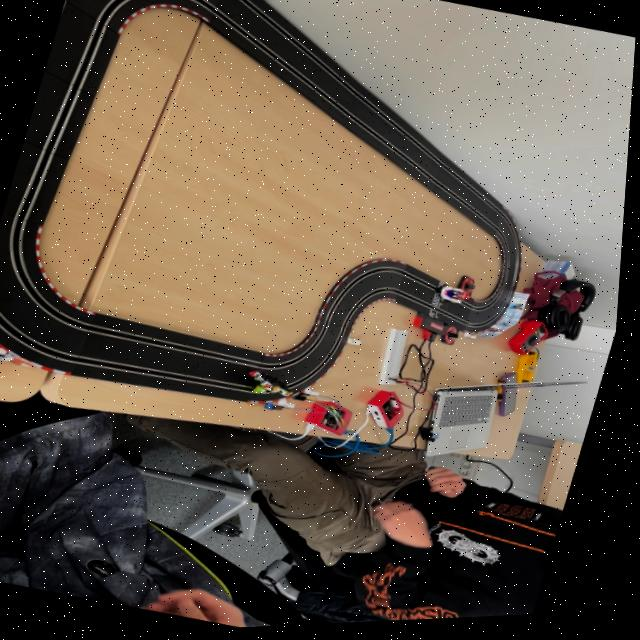mario: (437, 287, 481, 314)
yoshi: (244, 366, 306, 407)
